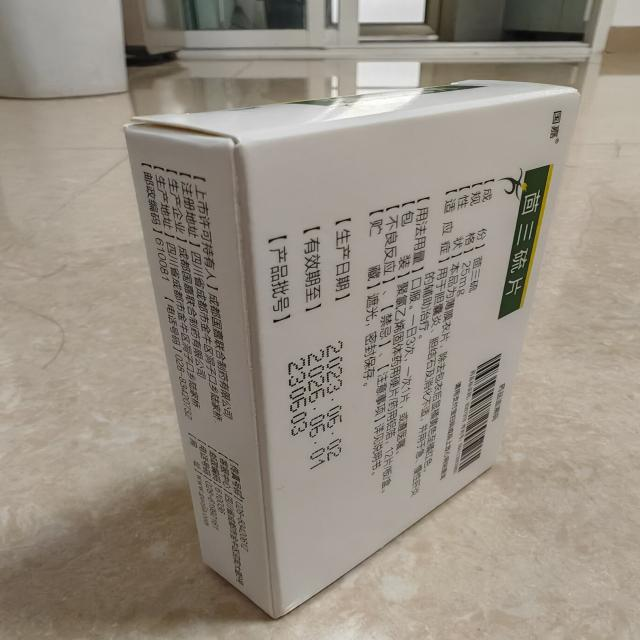box: (117, 74, 594, 625)
